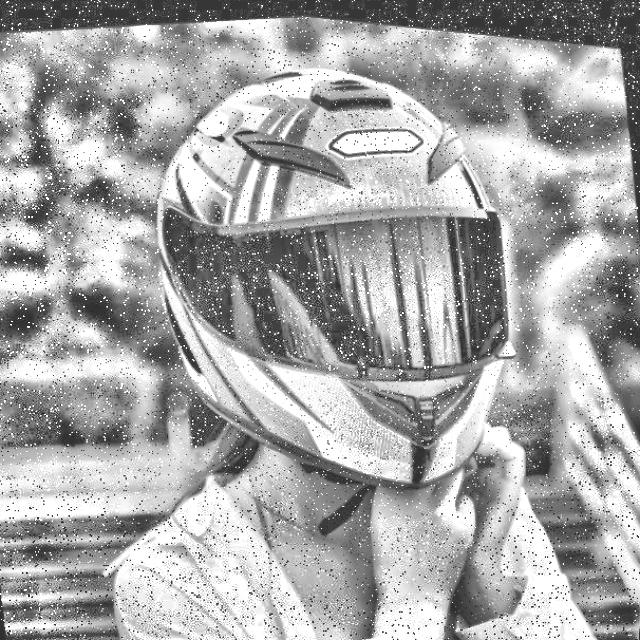Helmet: (110, 9, 560, 538)
